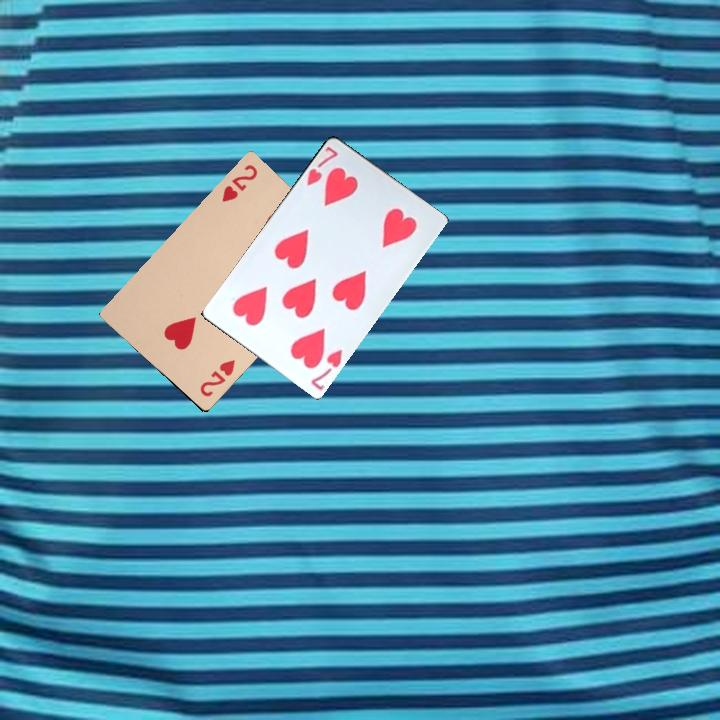2h: (218, 160, 260, 205), (196, 356, 238, 399)
7h: (307, 345, 345, 393), (302, 142, 340, 188)
